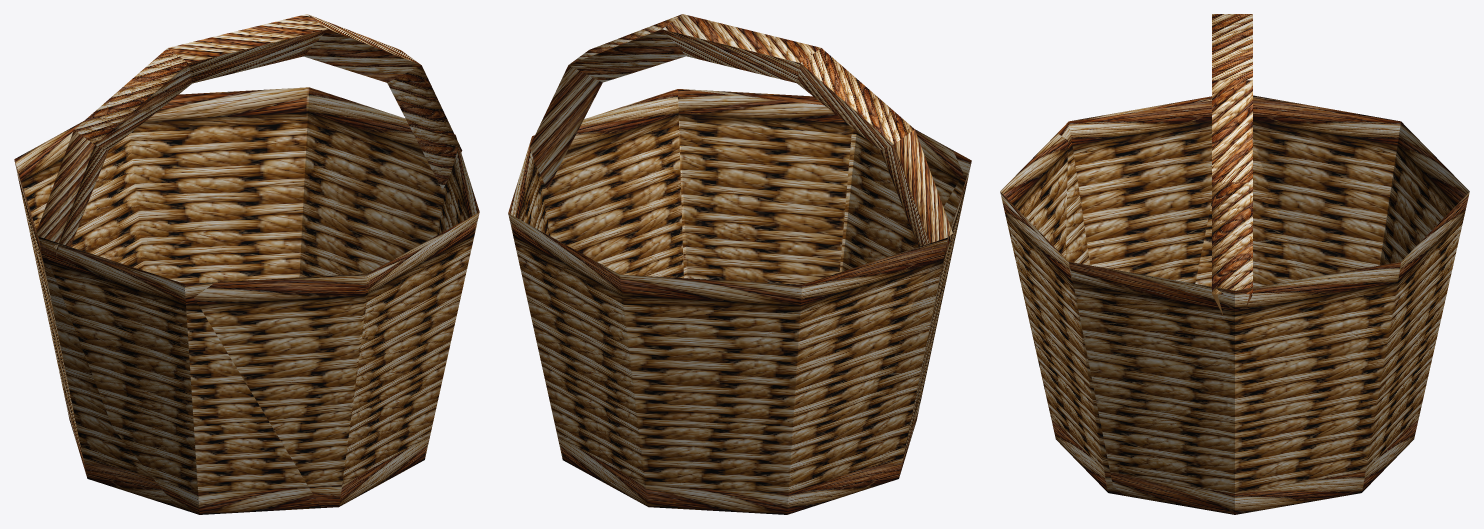
Rendered from mm9_deco_basket01.glb.
3 renders of one model, left to right at view 1: azimuth 30°, elevation 25°; view 2: azimuth 150°, elevation 25°; view 3: azimuth 270°, elevation 25°, orthographic. The views are drawn at different scales.
Visible parts, largest first — view 1: Basket01; view 2: Basket01; view 3: Basket01.
Part boxes in pixels (x1,y1,x2,y2): Basket01: (14, 14, 479, 514); Basket01: (508, 14, 971, 514); Basket01: (1000, 14, 1469, 514).
Size of the model in its own units: 0.7819 by 0.7202 by 0.7819.
Materials: 2 (2 with a texture image).
